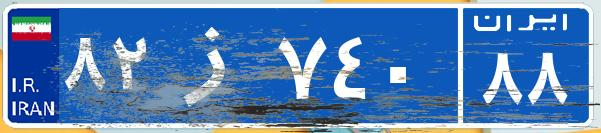0: (385, 28, 445, 110)
2: (110, 28, 158, 105)
4: (330, 28, 385, 110)
7: (273, 28, 330, 110)
8: (57, 26, 110, 107), (475, 38, 525, 113), (525, 38, 570, 115)
ز: (158, 15, 273, 115)
